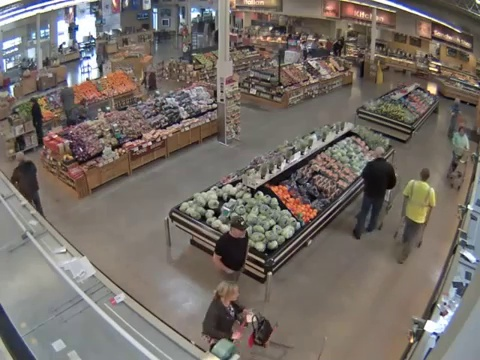face: (229, 286, 240, 303), (234, 224, 246, 237), (458, 128, 466, 135)
